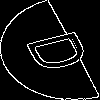D: (24, 25, 100, 75)
